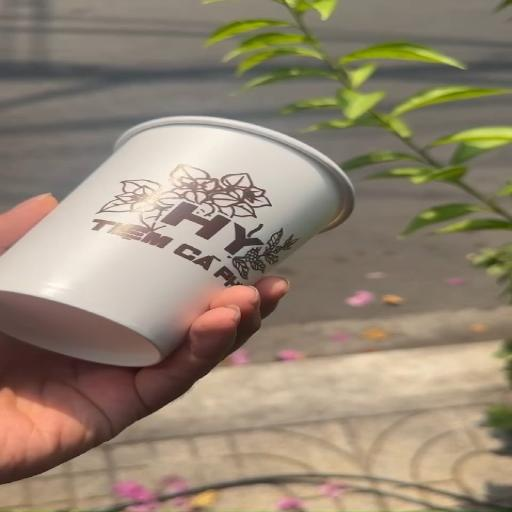Ly_giay: (0, 116, 353, 366)
